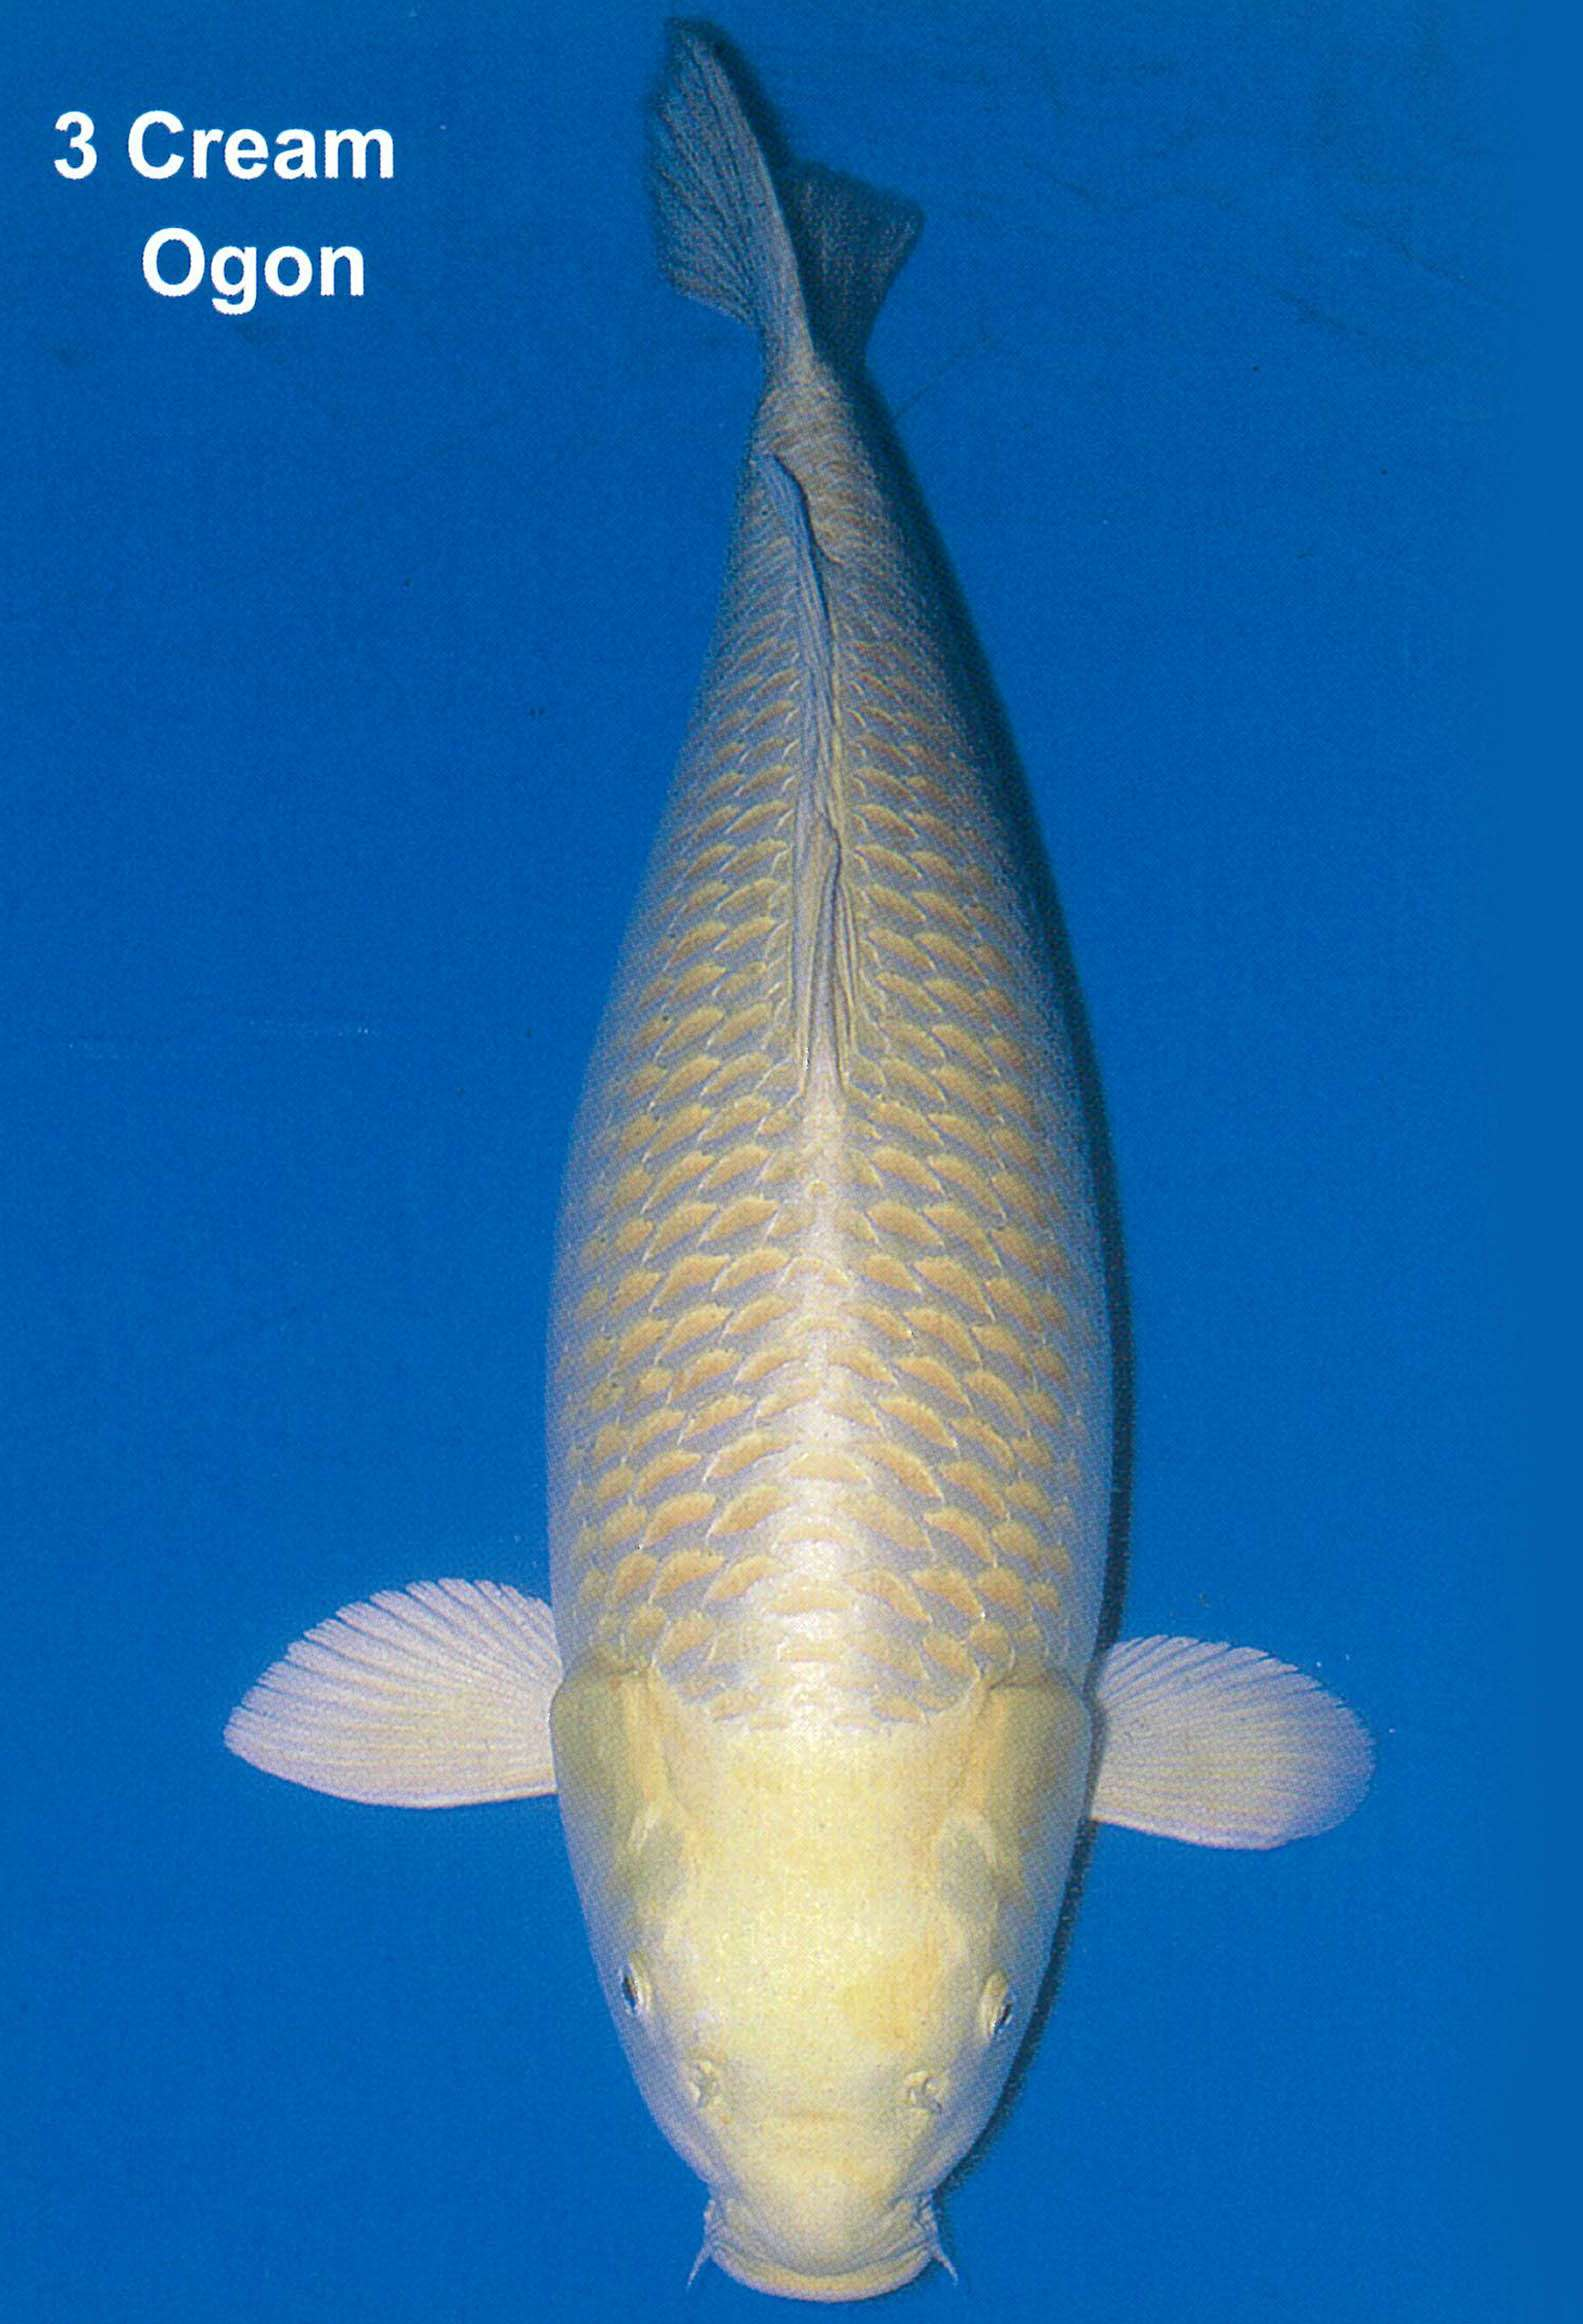white: (221, 37, 1383, 2298)
